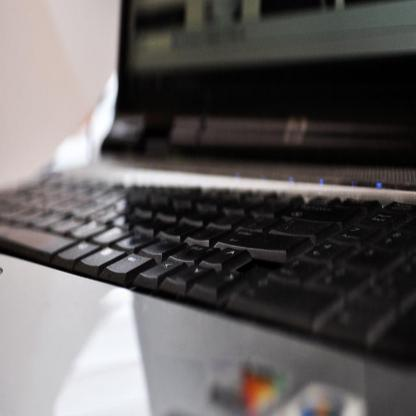board: (6, 6, 416, 382)
